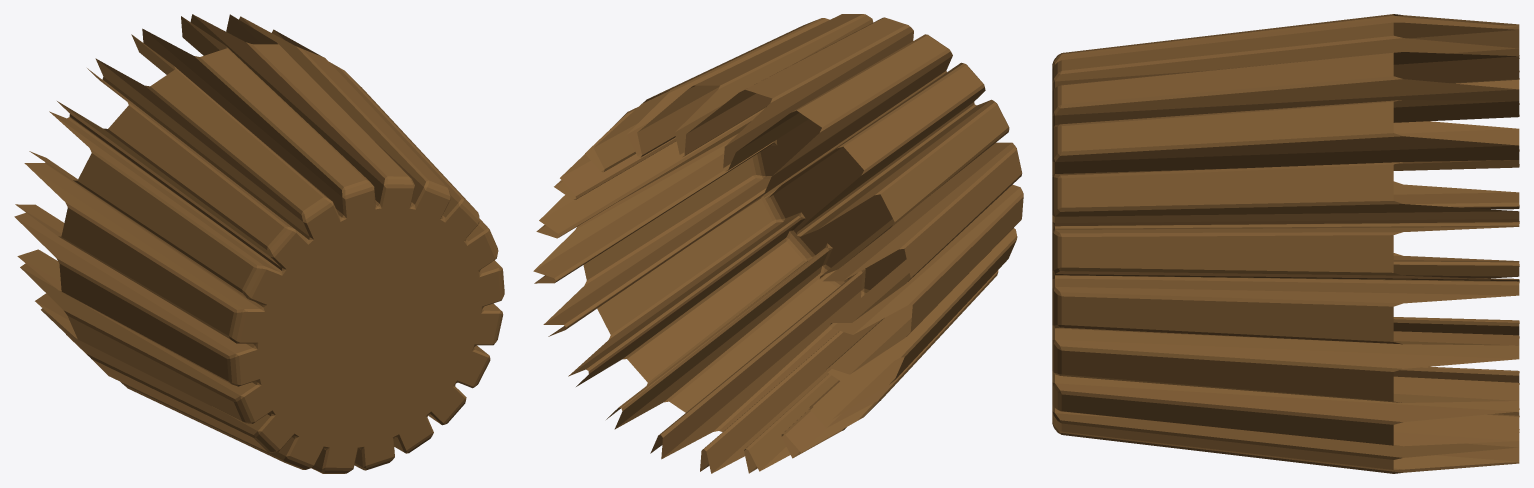
File: radioknob.fbx
3 views of the same model, side by side, from view 1: azimuth 30°, elevation 25°; view 2: azimuth 150°, elevation 25°; view 3: azimuth 270°, elevation 25° (orthographic). The views are drawn at different scales.
Parts seen in each view (by area): view 1: radio.002; view 2: radio.002; view 3: radio.002.
Boxes of the visible parts, box(x1,y1,x2,y2) form: radio.002: box(14, 14, 504, 473); radio.002: box(533, 14, 1023, 473); radio.002: box(1052, 14, 1519, 473).
Size of the model in its own units: 22.58 by 22.58 by 22.91.
